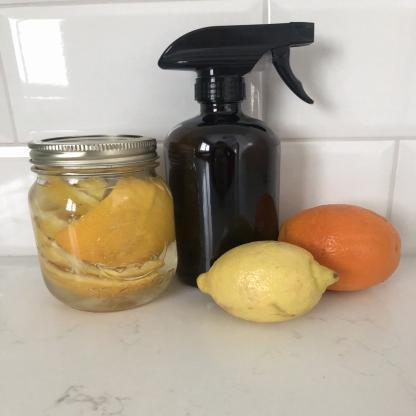lemon: (196, 240, 340, 322)
